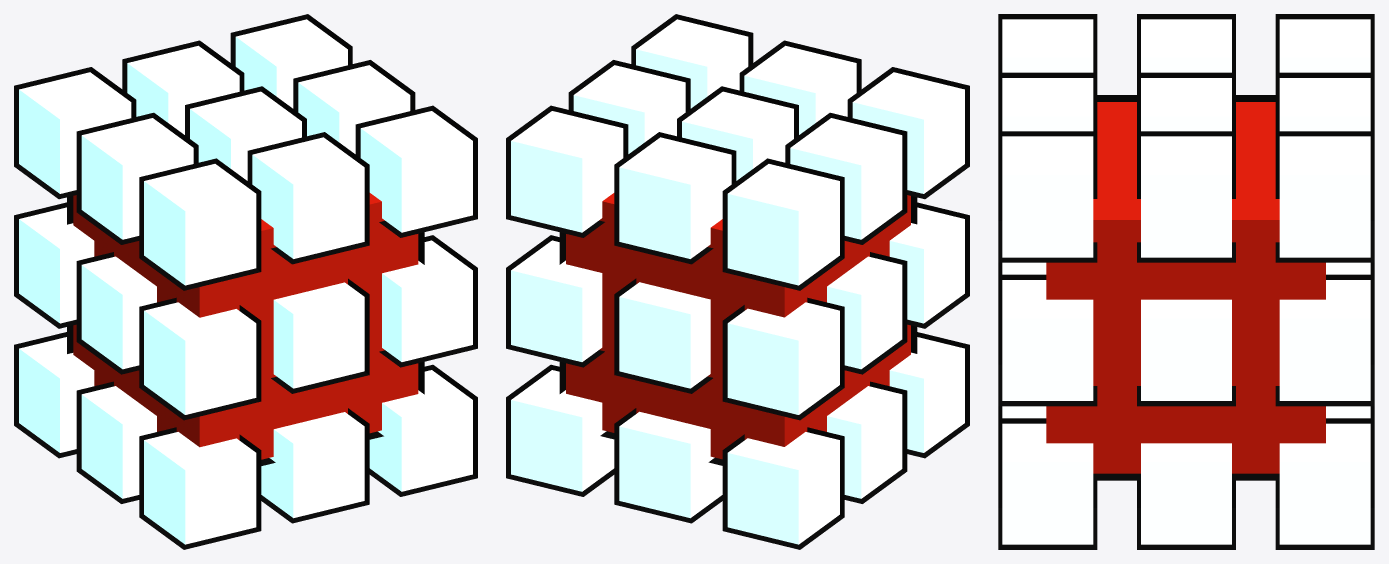
File: Memory.fbx
The picture shows the model from 3 angles, left to right: view 1: azimuth 30°, elevation 25°; view 2: azimuth 150°, elevation 25°; view 3: azimuth 270°, elevation 25°; orthographic projection. The views are drawn at different scales.
Parts seen in each view (by area): view 1: Memory_Cube; view 2: Memory_Cube; view 3: Memory_Cube.
Part boxes in pixels (box(x1,y1,x2,y2)): Memory_Cube: box(14, 14, 477, 549); Memory_Cube: box(506, 14, 969, 549); Memory_Cube: box(998, 14, 1374, 549).
Bounding box in the file's own units: 0.4332 × 0.4788 × 0.4332.
